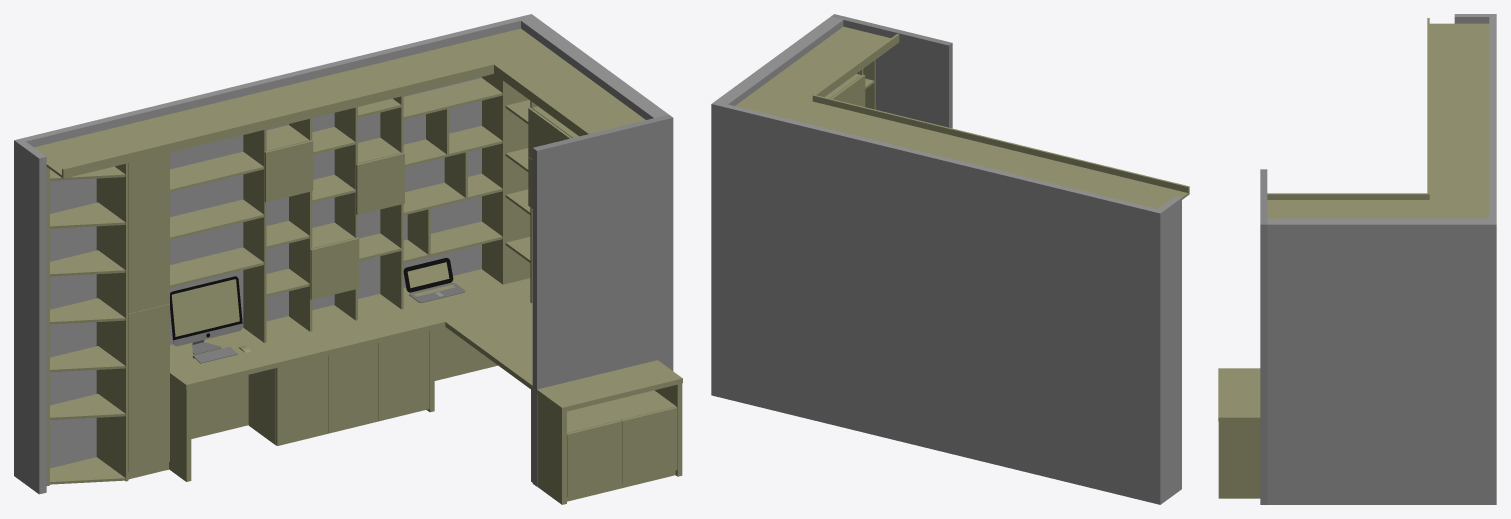
The picture shows the model from 3 angles, left to right: view 1: azimuth 30°, elevation 25°; view 2: azimuth 150°, elevation 25°; view 3: azimuth 270°, elevation 25°; orthographic projection. The views are drawn at different scales.
Parts seen in each view (by area): view 1: {2A6C84EA-B1F2-42ee-B397-044F586B9D5F}_Node, {C0F30BE0-D3FC-47bf-BB6B-A1F003FA4CCF}_Node, {CD972E12-316D-49fa-B310-1258A6DD1968}_Node, {5E396BDC-B707-41c4-B8F3-87A4472EA197}_Node, {88D22B99-D185-46f0-974E-BF69D769504D}_Node, {54905AB6-88DE-4c29-9DA6-3517A065FC3F}_Node, {7F26D938-22D2-492a-85FA-D837ABDC7F1C}_Node, {A2848F2A-1C2A-4432-9712-B222060352EC}_Node, {58F35E0E-7672-431e-AD49-586A4A31575C}_Node, {50EF0CB5-46C4-41ec-8682-C7E5D80311D3}_Node, {17DD2F6F-2B08-4bbe-AB41-5CC041D20AFD}_Node, {ECE93426-42AB-4c7f-9624-FC55C1A8830A}_Node (+51 smaller); view 2: {C0F30BE0-D3FC-47bf-BB6B-A1F003FA4CCF}_Node, {CD972E12-316D-49fa-B310-1258A6DD1968}_Node, {2A6C84EA-B1F2-42ee-B397-044F586B9D5F}_Node, {90BCCFDF-3D7E-4976-8192-91B1DF041A19}_Node, {88D22B99-D185-46f0-974E-BF69D769504D}_Node, {A2848F2A-1C2A-4432-9712-B222060352EC}_Node, {50EF0CB5-46C4-41ec-8682-C7E5D80311D3}_Node, {EA152D2A-3C75-4ff9-B6BD-A3A9F53CBB4F}_Node, {60E7D3A3-852D-46bc-9077-C410B72CB5A5}_Node, {95F7D407-AC0F-4881-9CF4-C0D2BB850C0C}_Node, {38FBDC1D-E516-4b4b-88EF-52FDA9F7C265}_Node, {8CFE2F03-67B0-4704-8ECC-EFE2FB10E0CE}_Node; view 3: {90BCCFDF-3D7E-4976-8192-91B1DF041A19}_Node, {88D22B99-D185-46f0-974E-BF69D769504D}_Node, {A2848F2A-1C2A-4432-9712-B222060352EC}_Node, {F12D26A7-4A12-4fe7-B9A5-0C99A1F70C78}_Node, {50EF0CB5-46C4-41ec-8682-C7E5D80311D3}_Node, {2A6C84EA-B1F2-42ee-B397-044F586B9D5F}_Node, {EE39018E-D5A2-4844-98D0-EC1B4CCE4261}_Node, {C0F30BE0-D3FC-47bf-BB6B-A1F003FA4CCF}_Node, {38FBDC1D-E516-4b4b-88EF-52FDA9F7C265}_Node, {CD972E12-316D-49fa-B310-1258A6DD1968}_Node.
Part boxes in pixels (x1=…): {2A6C84EA-B1F2-42ee-B397-044F586B9D5F}_Node: x1=532, y1=114, x2=673, y2=486; {C0F30BE0-D3FC-47bf-BB6B-A1F003FA4CCF}_Node: x1=29, y1=17, x2=520, y2=468; {CD972E12-316D-49fa-B310-1258A6DD1968}_Node: x1=14, y1=138, x2=46, y2=494; {5E396BDC-B707-41c4-B8F3-87A4472EA197}_Node: x1=170, y1=291, x2=445, y2=389; {88D22B99-D185-46f0-974E-BF69D769504D}_Node: x1=250, y1=28, x2=556, y2=115; {54905AB6-88DE-4c29-9DA6-3517A065FC3F}_Node: x1=403, y1=269, x2=532, y2=390; {7F26D938-22D2-492a-85FA-D837ABDC7F1C}_Node: x1=128, y1=304, x2=169, y2=471; {A2848F2A-1C2A-4432-9712-B222060352EC}_Node: x1=34, y1=94, x2=278, y2=177; {58F35E0E-7672-431e-AD49-586A4A31575C}_Node: x1=128, y1=153, x2=169, y2=313; {50EF0CB5-46C4-41ec-8682-C7E5D80311D3}_Node: x1=502, y1=54, x2=645, y2=133; {17DD2F6F-2B08-4bbe-AB41-5CC041D20AFD}_Node: x1=276, y1=355, x2=328, y2=445; {ECE93426-42AB-4c7f-9624-FC55C1A8830A}_Node: x1=378, y1=330, x2=429, y2=421; {C0F30BE0-D3FC-47bf-BB6B-A1F003FA4CCF}_Node: x1=724, y1=104, x2=1150, y2=501; {CD972E12-316D-49fa-B310-1258A6DD1968}_Node: x1=1154, y1=196, x2=1181, y2=504; {2A6C84EA-B1F2-42ee-B397-044F586B9D5F}_Node: x1=831, y1=14, x2=952, y2=128; {90BCCFDF-3D7E-4976-8192-91B1DF041A19}_Node: x1=711, y1=16, x2=843, y2=398; {88D22B99-D185-46f0-974E-BF69D769504D}_Node: x1=735, y1=88, x2=993, y2=163; {A2848F2A-1C2A-4432-9712-B222060352EC}_Node: x1=970, y1=146, x2=1188, y2=208; {50EF0CB5-46C4-41ec-8682-C7E5D80311D3}_Node: x1=759, y1=26, x2=890, y2=101; {EA152D2A-3C75-4ff9-B6BD-A3A9F53CBB4F}_Node: x1=1147, y1=207, x2=1157, y2=503; {60E7D3A3-852D-46bc-9077-C410B72CB5A5}_Node: x1=994, y1=139, x2=1189, y2=194; {95F7D407-AC0F-4881-9CF4-C0D2BB850C0C}_Node: x1=812, y1=95, x2=994, y2=145; {38FBDC1D-E516-4b4b-88EF-52FDA9F7C265}_Node: x1=814, y1=34, x2=899, y2=96; {8CFE2F03-67B0-4704-8ECC-EFE2FB10E0CE}_Node: x1=831, y1=74, x2=865, y2=106; {90BCCFDF-3D7E-4976-8192-91B1DF041A19}_Node: x1=1267, y1=218, x2=1496, y2=504; {88D22B99-D185-46f0-974E-BF69D769504D}_Node: x1=1429, y1=115, x2=1489, y2=218; {A2848F2A-1C2A-4432-9712-B222060352EC}_Node: x1=1429, y1=23, x2=1489, y2=114; {F12D26A7-4A12-4fe7-B9A5-0C99A1F70C78}_Node: x1=1218, y1=421, x2=1260, y2=498; {50EF0CB5-46C4-41ec-8682-C7E5D80311D3}_Node: x1=1267, y1=200, x2=1429, y2=218; {2A6C84EA-B1F2-42ee-B397-044F586B9D5F}_Node: x1=1260, y1=169, x2=1267, y2=504; {EE39018E-D5A2-4844-98D0-EC1B4CCE4261}_Node: x1=1218, y1=368, x2=1260, y2=421; {C0F30BE0-D3FC-47bf-BB6B-A1F003FA4CCF}_Node: x1=1489, y1=20, x2=1496, y2=218; {38FBDC1D-E516-4b4b-88EF-52FDA9F7C265}_Node: x1=1267, y1=193, x2=1427, y2=199; {CD972E12-316D-49fa-B310-1258A6DD1968}_Node: x1=1454, y1=14, x2=1496, y2=23.
Size of the model in its own units: 4.18 by 2.59 by 2.33.
